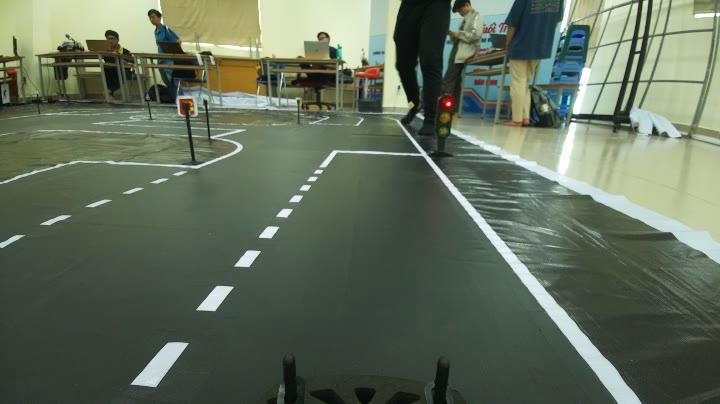trafficlight: (426, 86, 458, 162)
